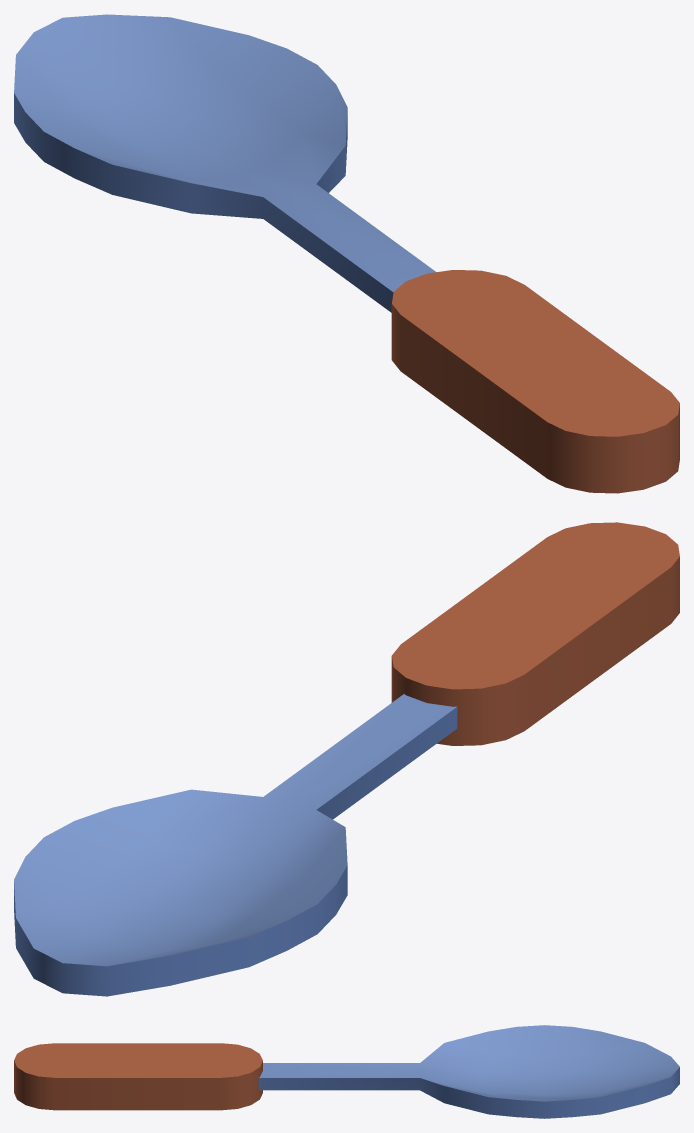
The model's file is Spoon B.fbx.
3 views of the same model, one above another, from view 1: azimuth 30°, elevation 25°; view 2: azimuth 150°, elevation 25°; view 3: azimuth 270°, elevation 25° (orthographic). The views are drawn at different scales.
Visible parts, largest first — view 1: Spoon.001; view 2: Spoon.001; view 3: Spoon.001.
Boxes of the visible parts, box(x1,y1,x2,y2) form: Spoon.001: box(14, 14, 679, 493); Spoon.001: box(14, 522, 679, 996); Spoon.001: box(14, 1025, 679, 1118).
Size of the model in its own units: 0.1887 by 0.048 by 0.6949.
